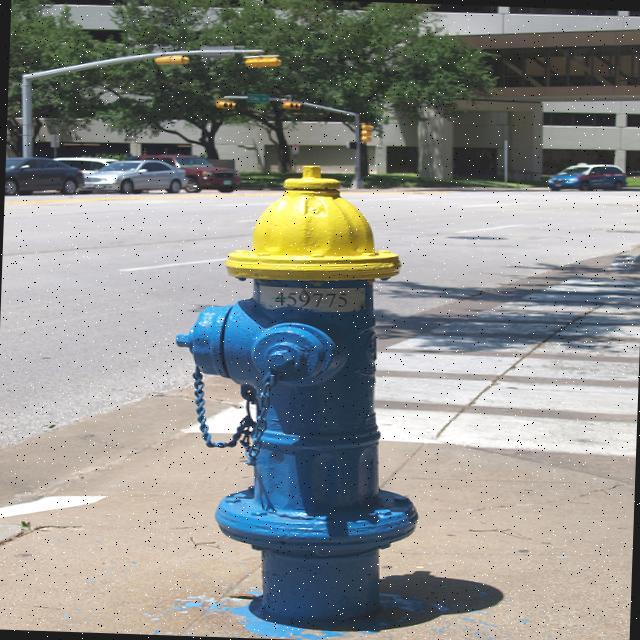fire_hydrant: (166, 160, 429, 616)
